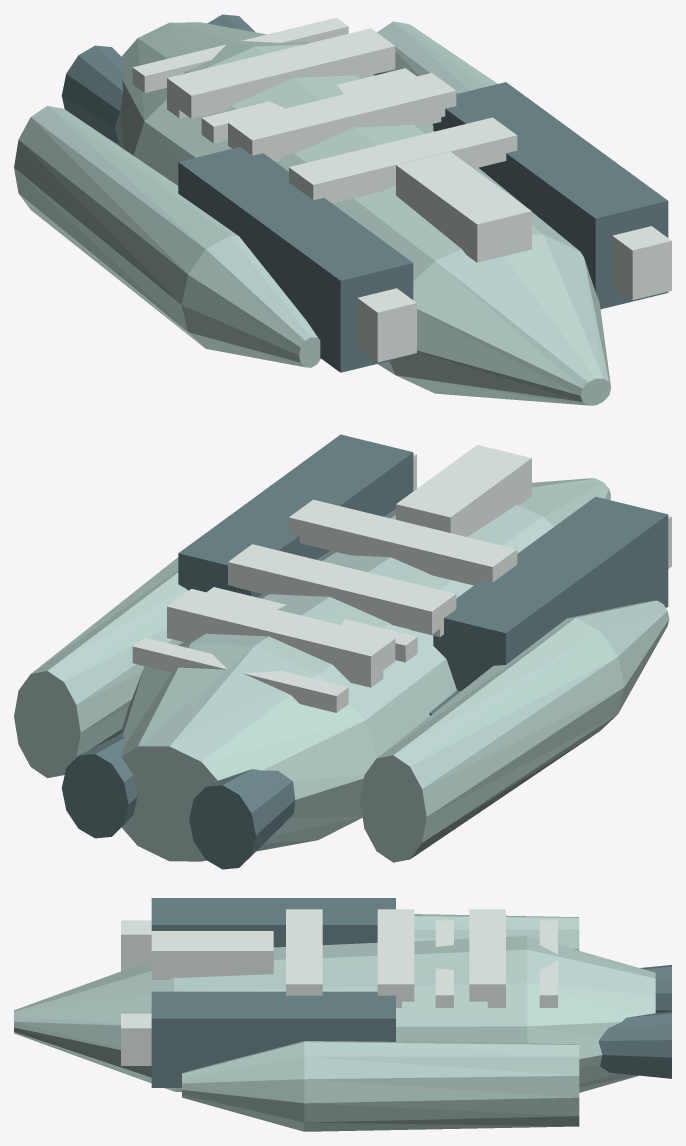
3 renders of one model, top to bottom at view 1: azimuth 30°, elevation 25°; view 2: azimuth 150°, elevation 25°; view 3: azimuth 270°, elevation 25°, orthographic. The views are drawn at different scales.
Size of the model in its own units: 2.39 by 1.05 by 4.09.
